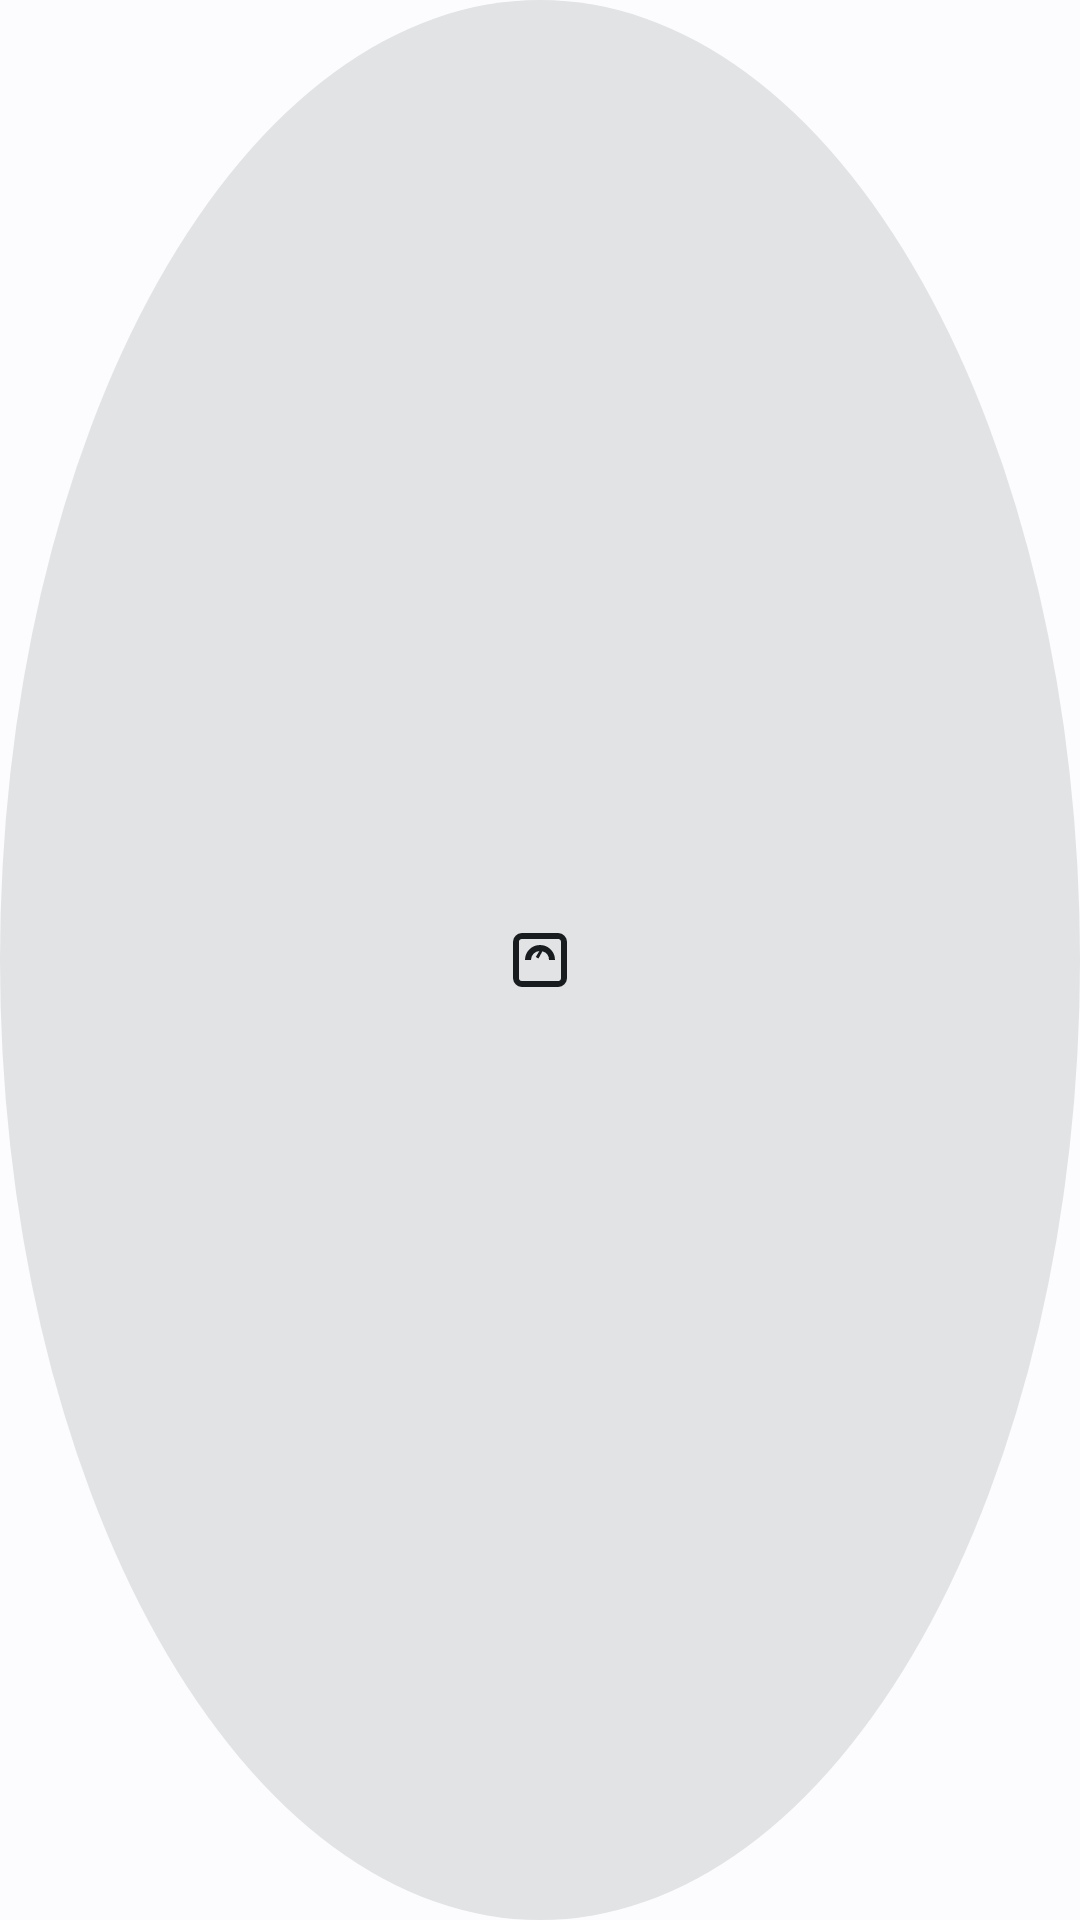

Named icons in this screenshot (1080×1920) and their bounding boxes, (x1, y1, x2, y2):
scale: (513, 933, 567, 987)
